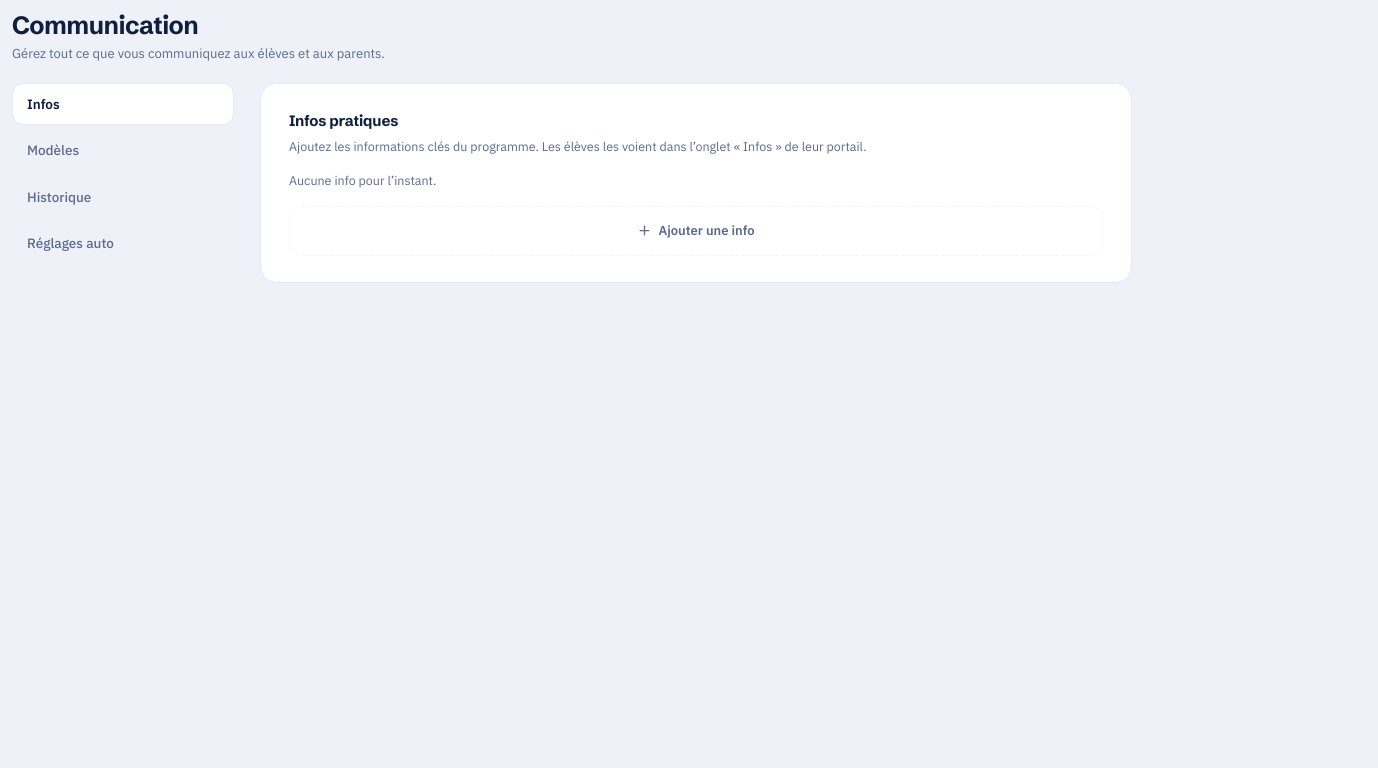
Test: CommunicationView › shows the good-news editor under Modèles
The image size is (1378, 768).
Expected: the text "E-mail « Bonne nouvelle » aux parents" is not shown
Click the button "Modèles".
click(123, 150)  # box [12,129,234,172]
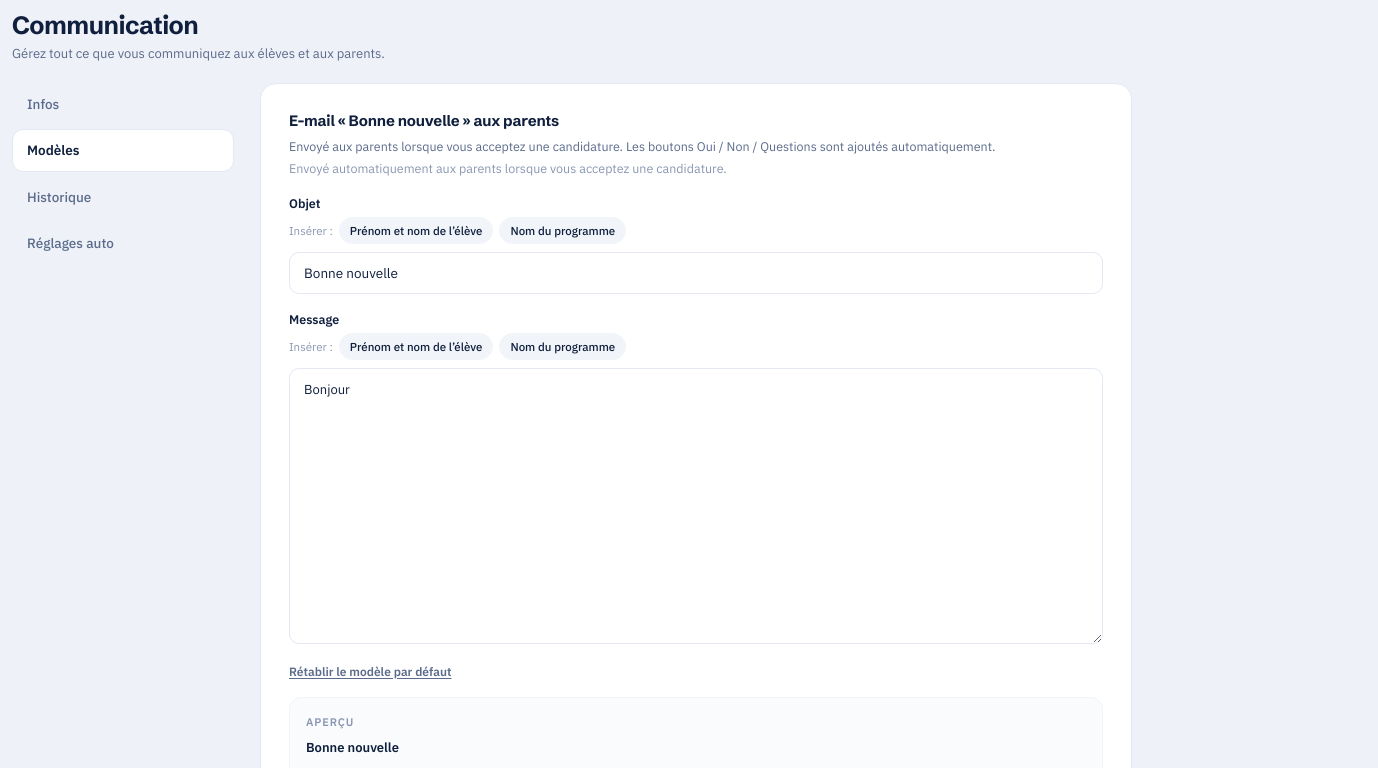
Now the text "E-mail « Bonne nouvelle » aux parents" is shown, box [289,111,559,130]
Now the field showing "Bonne nouvelle" is shown, box [289,252,1103,294]
